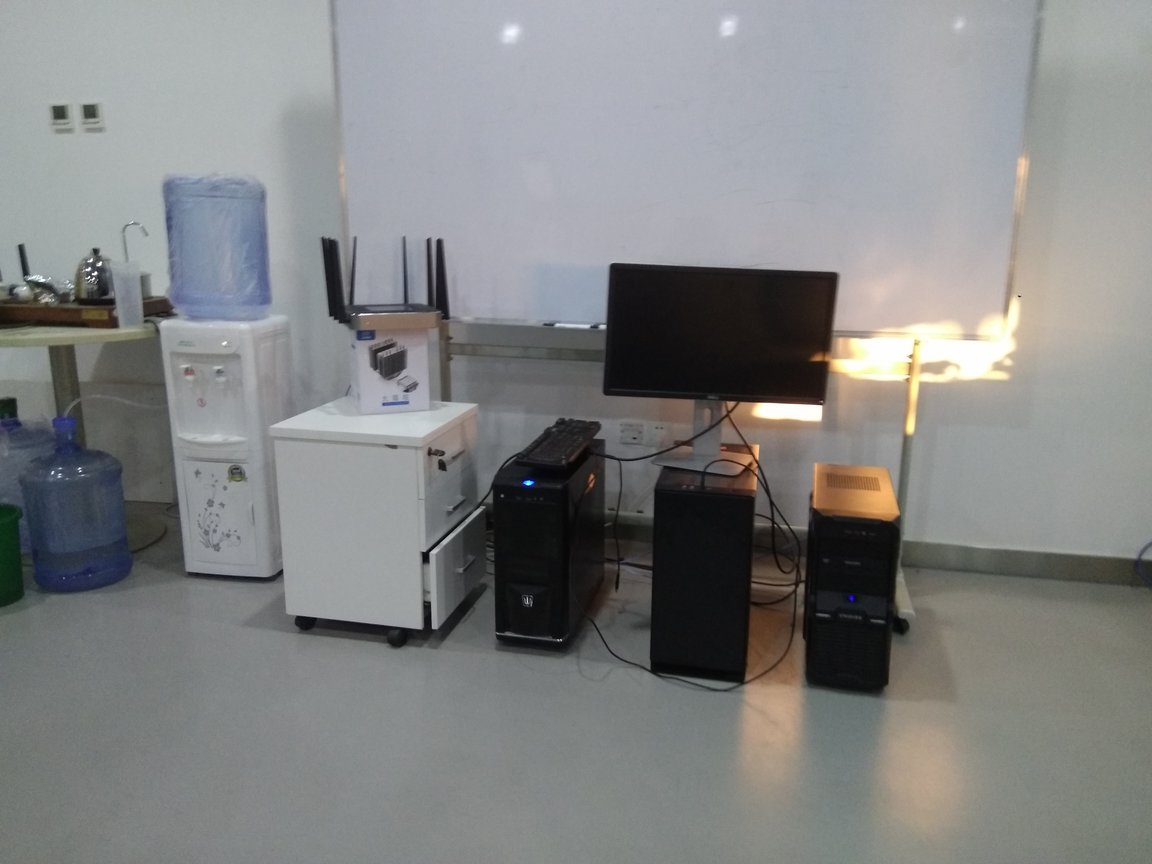computer: (494, 415, 610, 662), (801, 458, 911, 711), (655, 440, 766, 689)
drawer chest: (269, 388, 484, 645)
monitor: (600, 258, 838, 466)
scuttlebutt: (23, 413, 139, 597), (150, 174, 283, 317), (1, 405, 76, 558)
water dispenser: (152, 312, 315, 579)
